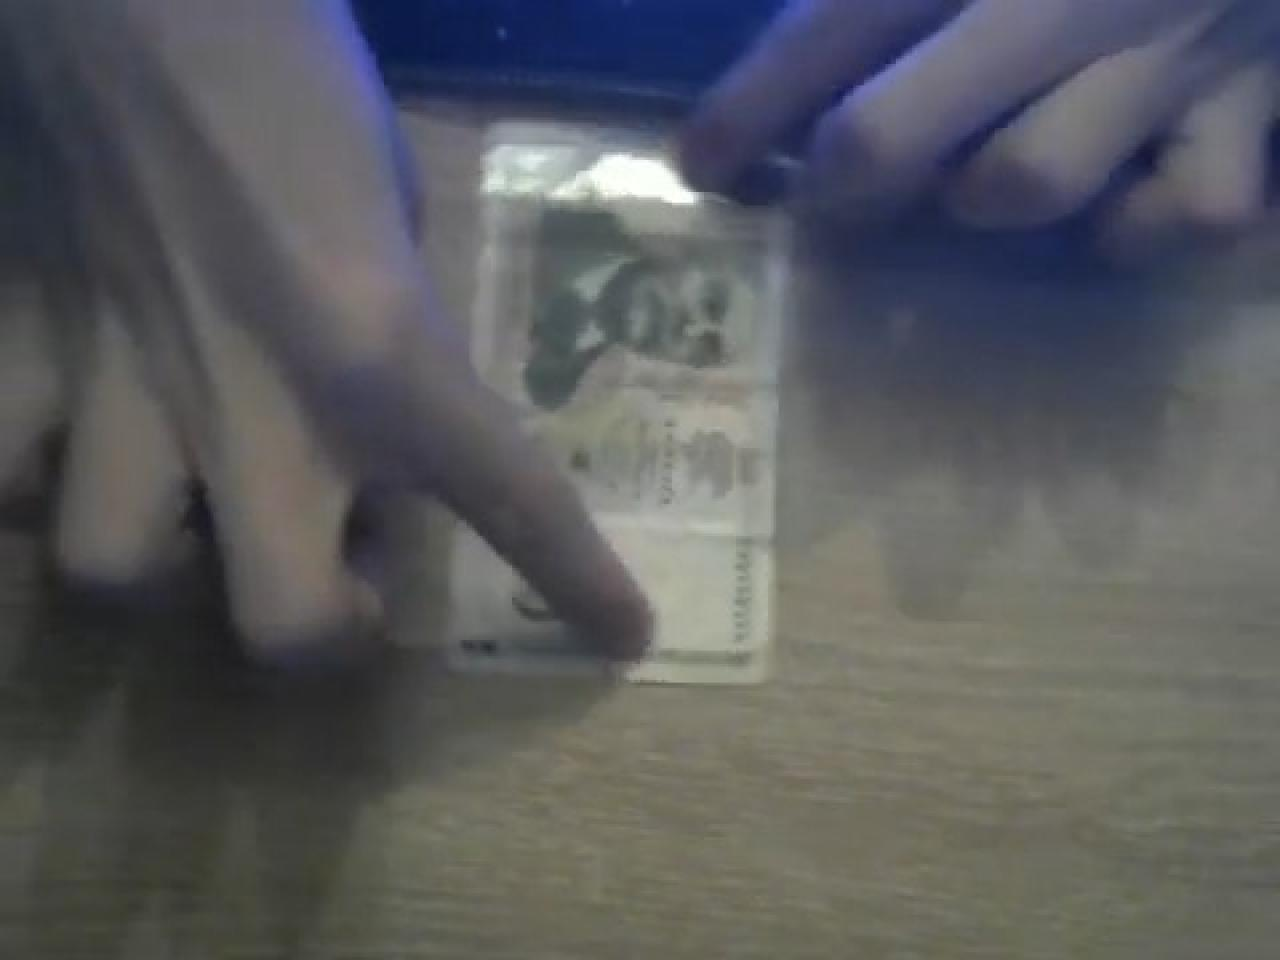10leva: (531, 187, 781, 672)
